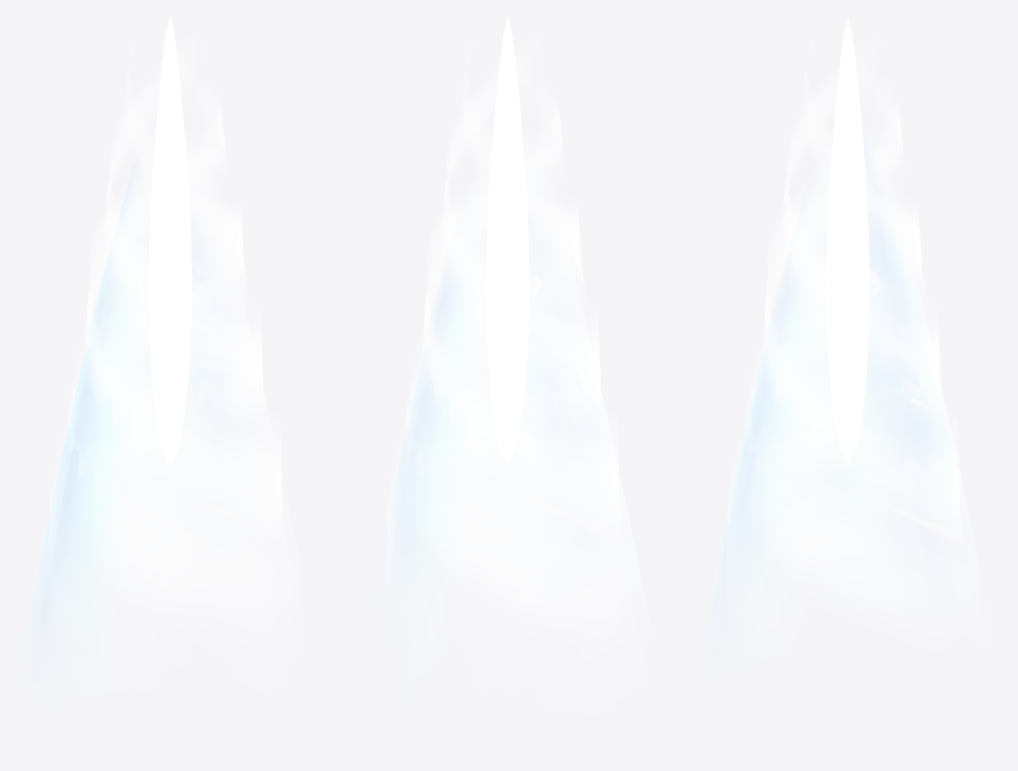
The model's file is elowen_mist_lance.glb.
3 renders of one model, left to right at view 1: azimuth 30°, elevation 25°; view 2: azimuth 150°, elevation 25°; view 3: azimuth 270°, elevation 25°, orthographic.
Parts seen in each view (by area): view 1: Elowen_LanceMist, Elowen_LanceSheath, Elowen_LanceCore; view 2: Elowen_LanceMist, Elowen_LanceSheath, Elowen_LanceCore; view 3: Elowen_LanceMist, Elowen_LanceSheath, Elowen_LanceCore.
Part boxes in pixels (x1=…): Elowen_LanceMist: x1=48, y1=41, x2=293, y2=625; Elowen_LanceSheath: x1=24, y1=164, x2=292, y2=653; Elowen_LanceCore: x1=148, y1=16, x2=191, y2=465; Elowen_LanceMist: x1=385, y1=41, x2=626, y2=623; Elowen_LanceSheath: x1=391, y1=210, x2=650, y2=659; Elowen_LanceCore: x1=486, y1=16, x2=529, y2=465; Elowen_LanceMist: x1=725, y1=41, x2=971, y2=627; Elowen_LanceSheath: x1=712, y1=160, x2=980, y2=598; Elowen_LanceCore: x1=826, y1=16, x2=869, y2=464.
Size of what is drawn, in the model's own units: 0.437 by 1.05 by 0.4385.
4 materials, 4 textured.
